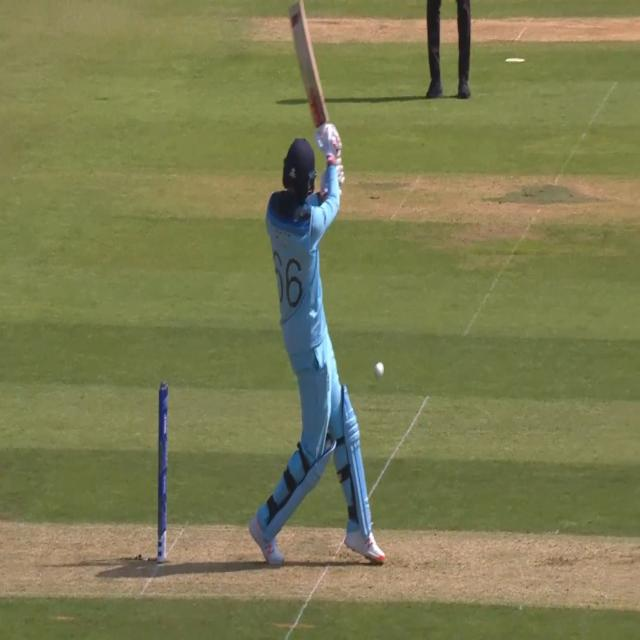ball: (368, 354, 392, 384)
